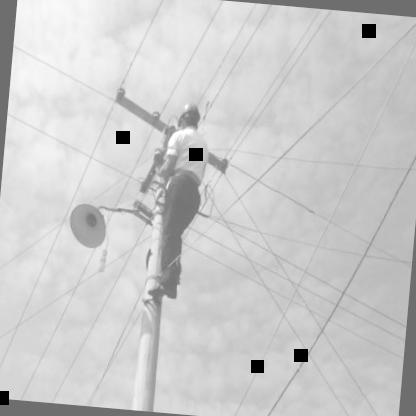helmet: (172, 99, 206, 141)
